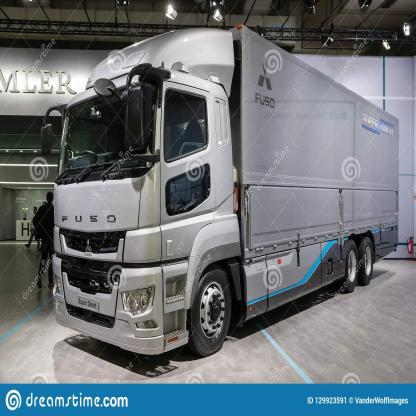truck: (41, 22, 402, 362)
